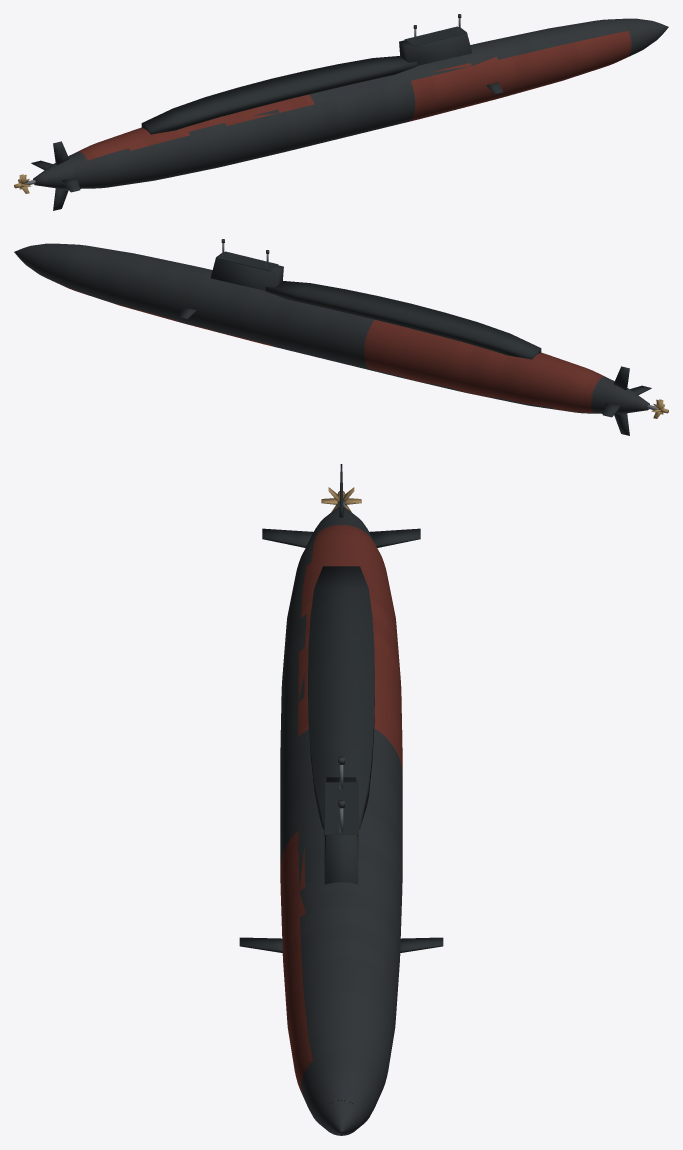
Rendered from CN_SSBN_Type092_LOD1.fbx.
3 renders of one model, top to bottom at view 1: azimuth 30°, elevation 25°; view 2: azimuth 150°, elevation 25°; view 3: azimuth 270°, elevation 25°, orthographic. The views are drawn at different scales.
Visible parts, largest first — view 1: CN_SSBN_Type092_LOD1; view 2: CN_SSBN_Type092_LOD1; view 3: CN_SSBN_Type092_LOD1.
Part boxes in pixels (x1=…): CN_SSBN_Type092_LOD1: x1=14, y1=14, x2=668, y2=210; CN_SSBN_Type092_LOD1: x1=14, y1=239, x2=668, y2=435; CN_SSBN_Type092_LOD1: x1=239, y1=464, x2=443, y2=1135.
Bounding box in the file's own units: 124 × 16.71 × 17.53.
6 materials, 1 textured.
